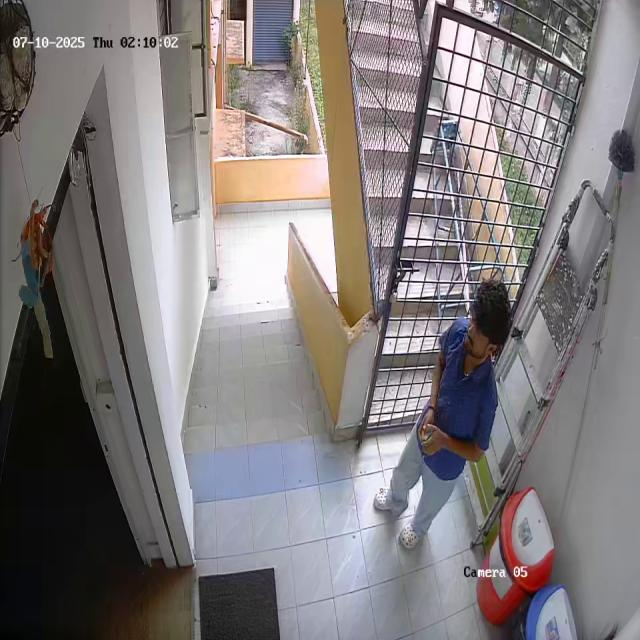person: (398, 278, 514, 559)
